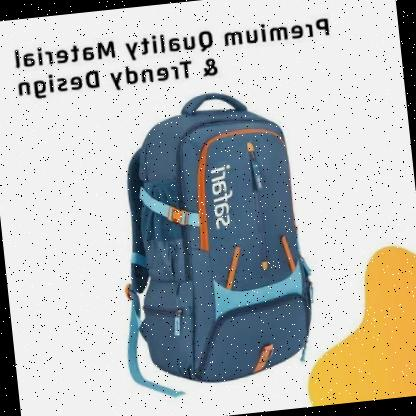bag: (98, 80, 324, 403)
